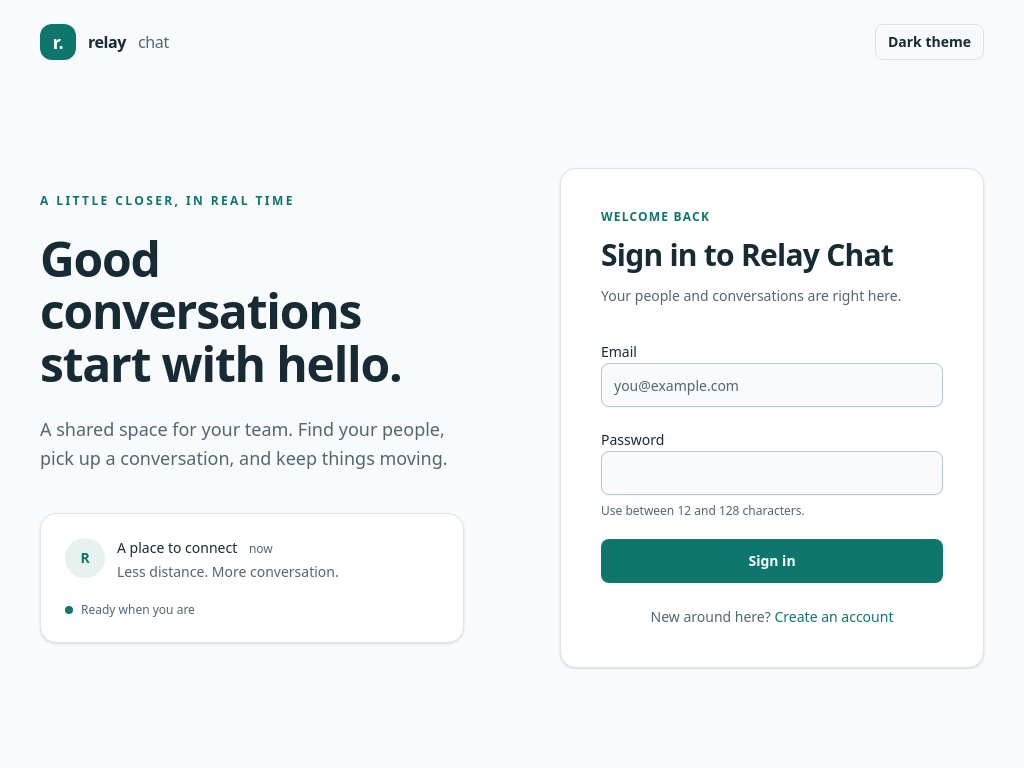
Scenario: web app smoke test › shows identical login errors from the API without entering protected routes
The width and height of the screenshot is (1024, 768).
Expected: the heading "Sign in to Relay Chat" is shown, [601, 237, 943, 273]
In the field labelled "Email": (772, 385) [601, 363, 943, 407], type "MEMBER@example.test"
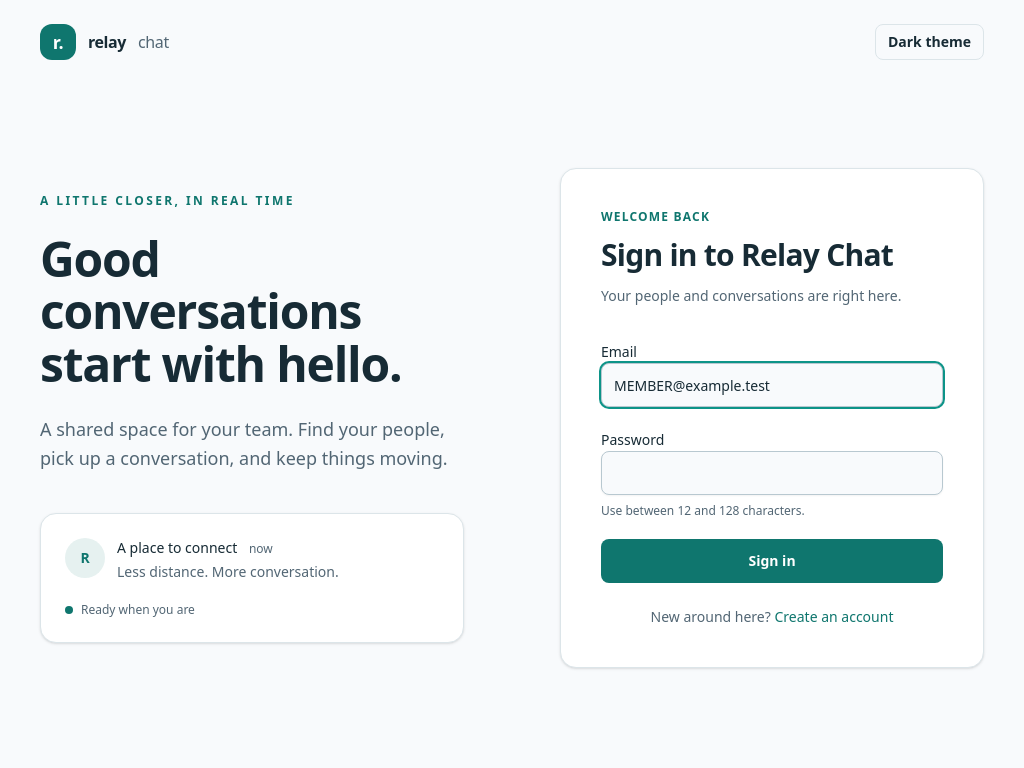
In the password field labelled "Password": (772, 473) [601, 451, 943, 495], type "test-password-long"
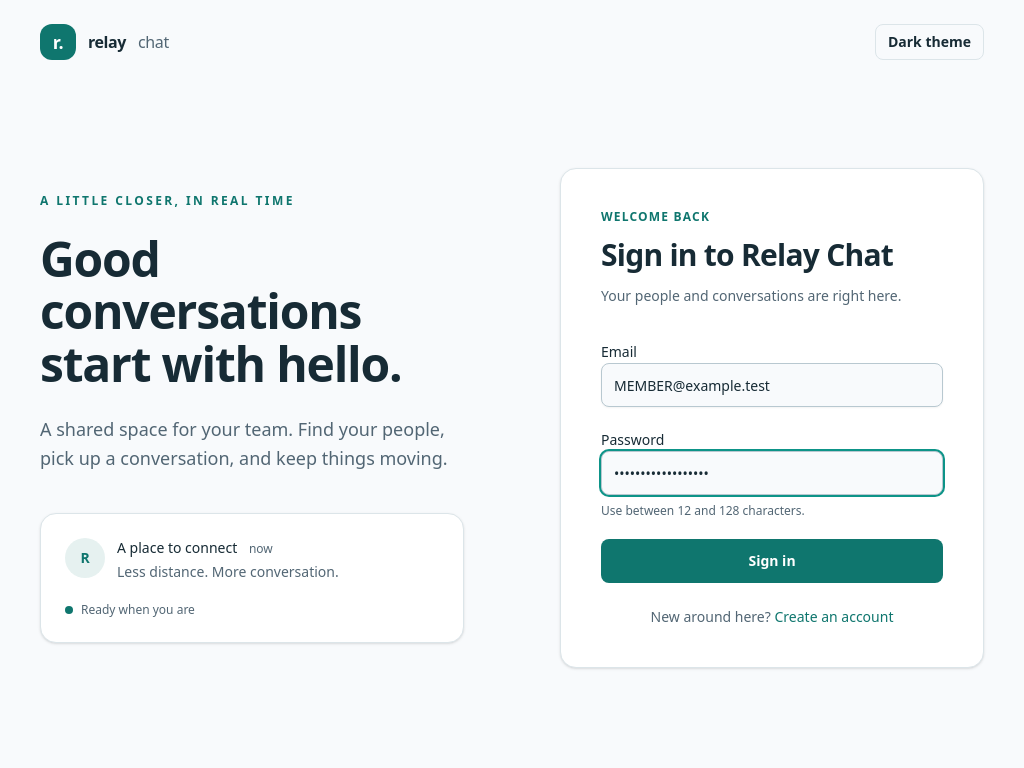
Click the button "Sign in": (772, 561) [601, 539, 943, 583]
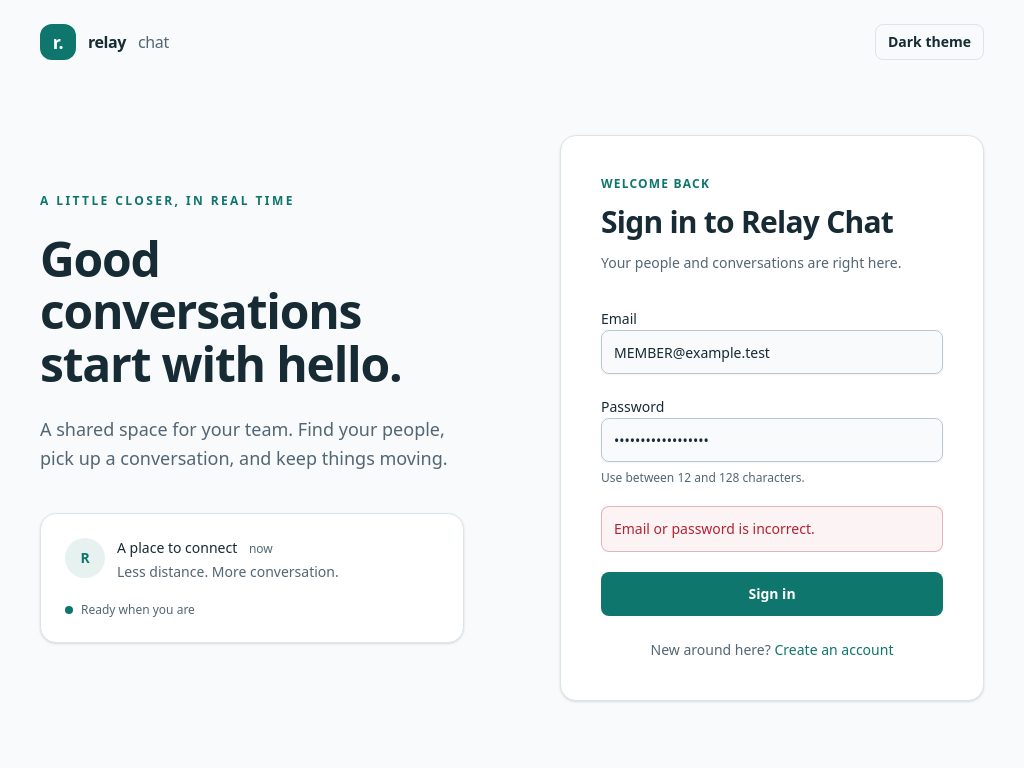
Expected: the message reads "Email or password is incorrect.", [614, 519, 815, 538]
